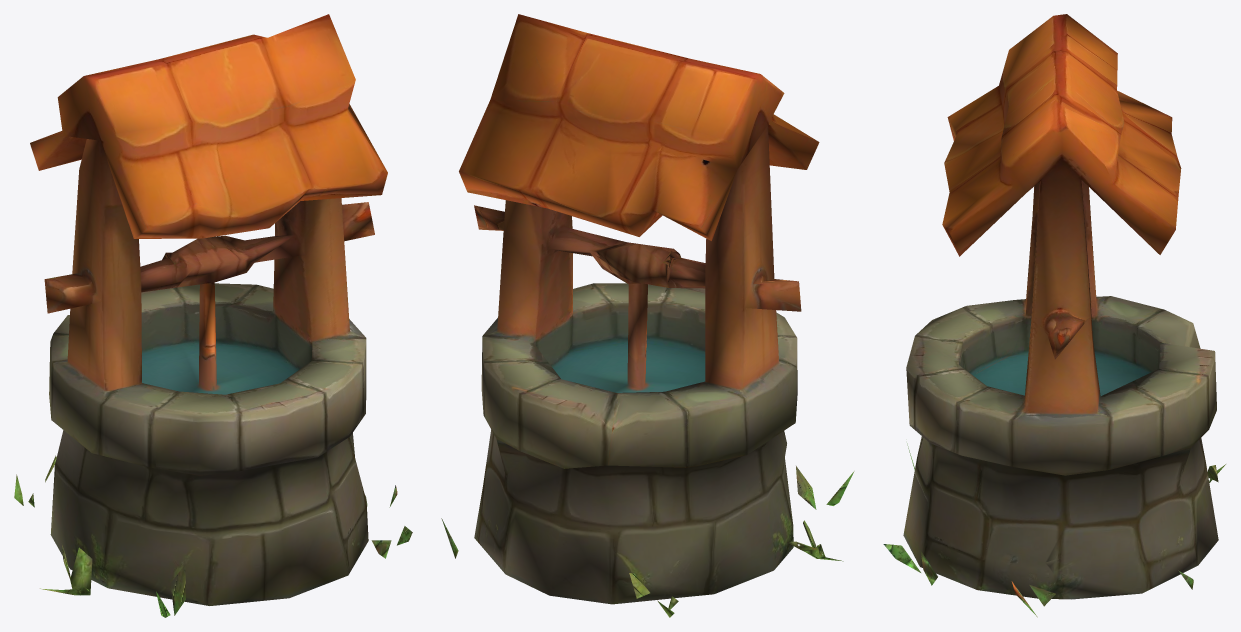
Rendered from env_well.glb.
3 renders of one model, left to right at view 1: azimuth 30°, elevation 25°; view 2: azimuth 150°, elevation 25°; view 3: azimuth 270°, elevation 25°, orthographic. The views are drawn at different scales.
Bounding box in the file's own units: 1.51 × 2.01 × 1.32.
1 material, 1 textured.
